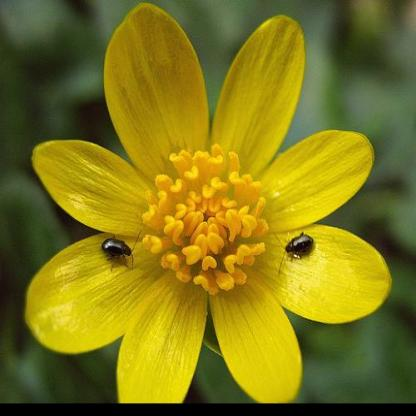beetle: (282, 227, 319, 265), (103, 233, 136, 270)
